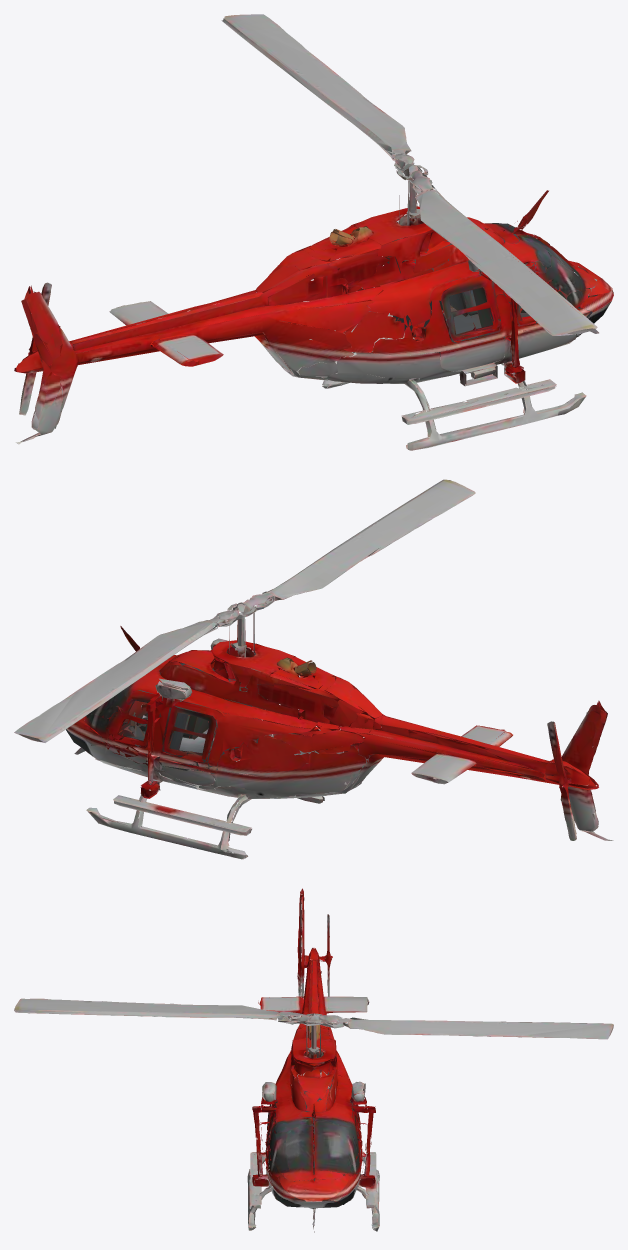
Rendered from obs_heli.glb.
3 views of the same model, one above another, from view 1: azimuth 30°, elevation 25°; view 2: azimuth 150°, elevation 25°; view 3: azimuth 270°, elevation 25° (orthographic). The views are drawn at different scales.
Parts seen in each view (by area): view 1: material; view 2: material; view 3: material.
Boxes of the visible parts, bbox=[...] form: material: bbox=[14, 14, 613, 450]; material: bbox=[14, 479, 613, 859]; material: bbox=[14, 888, 613, 1232].
Size of the model in its own units: 0.9023 by 0.3524 by 1.07.
Materials: 1 (1 with a texture image).
